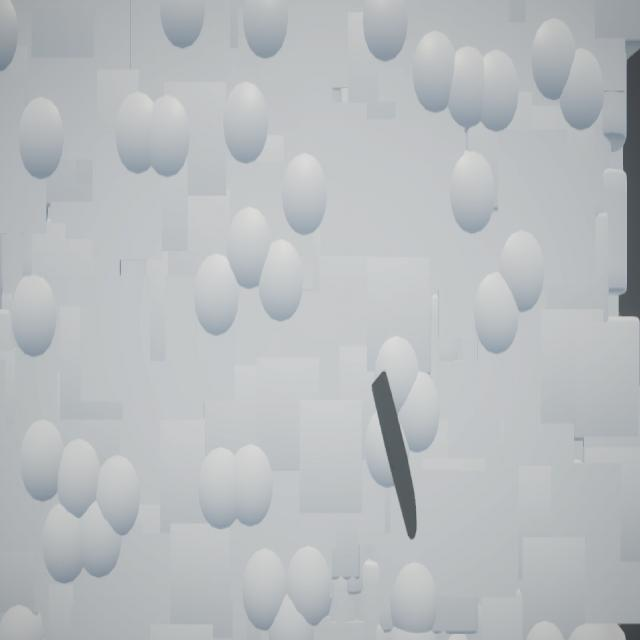top_knife: (373, 370, 418, 541)
